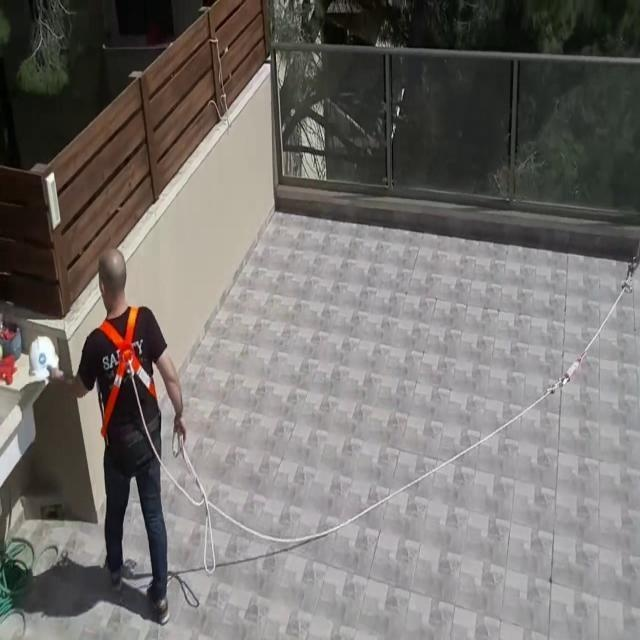Arnes_seguridad: (91, 300, 164, 440)
